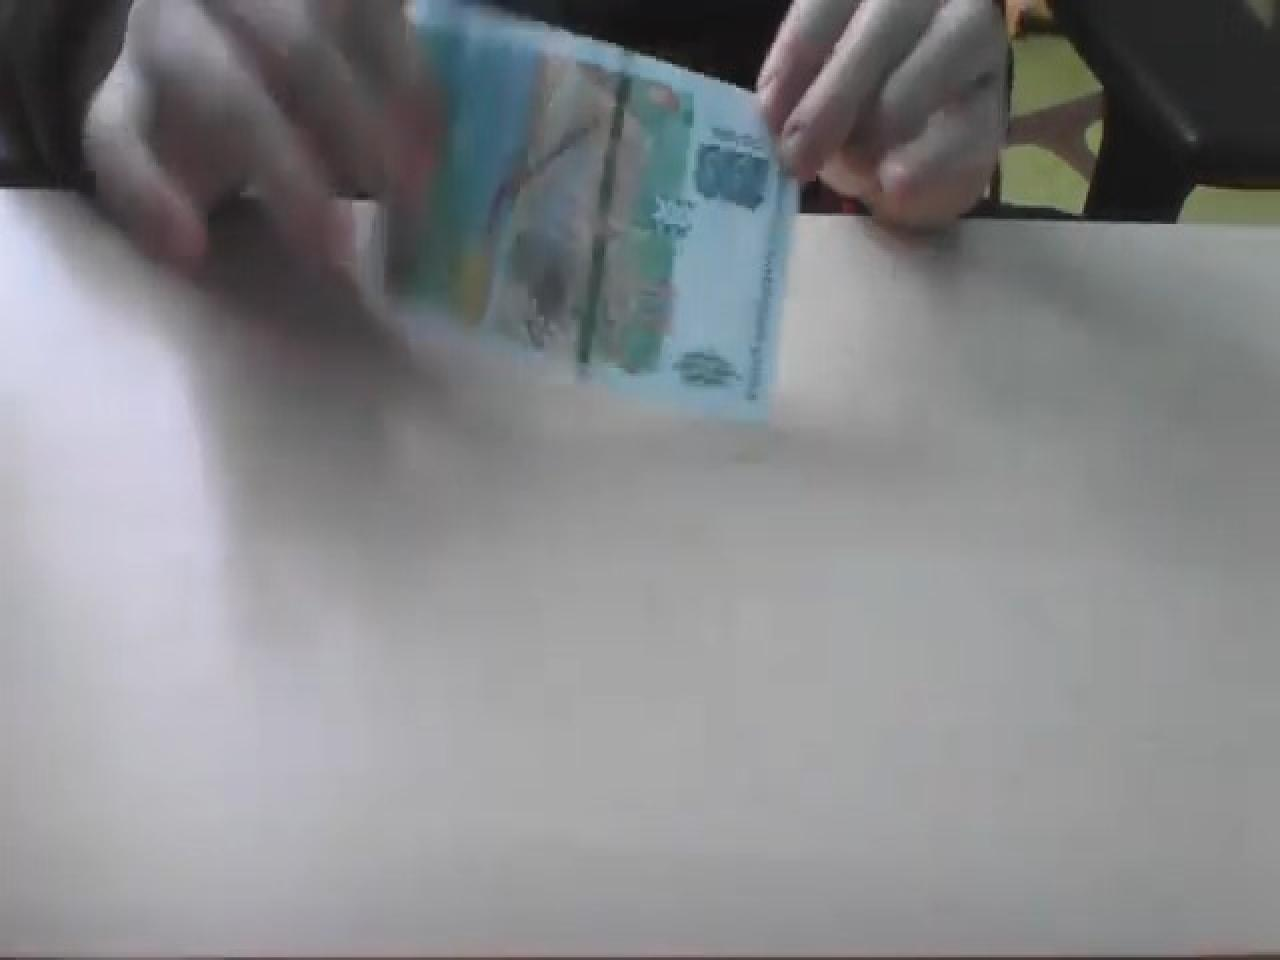100leva: (376, 5, 802, 424)
